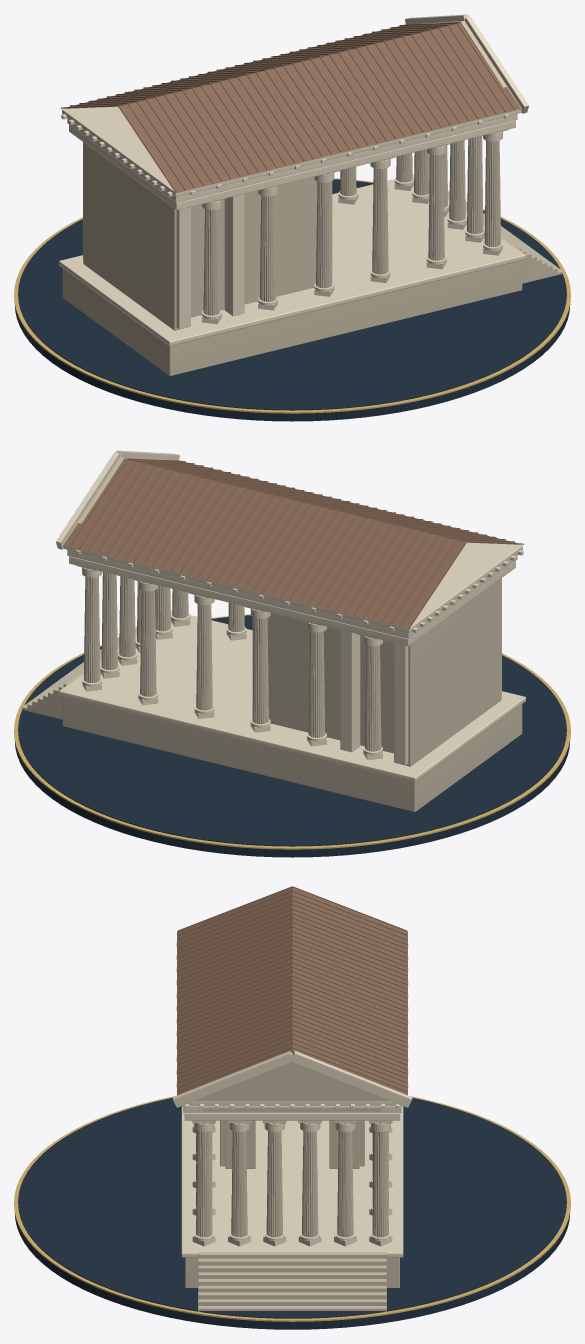
The model's file is temple-miniature-source.glb.
3 renders of one model, top to bottom at view 1: azimuth 30°, elevation 25°; view 2: azimuth 150°, elevation 25°; view 3: azimuth 270°, elevation 25°, orthographic.
Visible parts, largest first — view 1: Decorative navy top, Clay roof plane, Podium top moulding, Podium main 2.75m, Cella restored rear wall, Cella flank, Decorative navy display plinth, Entablature and cornice.002, Clay roof plane.001, Entablature and cornice, Decorative gold rim, Entablature and cornice.001 (+3 smaller); view 2: Decorative navy top, Clay roof plane.001, Podium top moulding, Podium main 2.75m, Cella restored rear wall, Cella flank.001, Decorative navy display plinth, Entablature and cornice.002, Clay roof plane, Entablature and cornice, Decorative gold rim, Entablature and cornice.001 (+3 smaller); view 3: Decorative navy top, Clay roof plane, Clay roof plane.001, Podium top moulding, Decorative navy display plinth, Triangular east fronton, Decorative gold rim, Entablature and cornice, Raking pediment cornice, Raking pediment cornice.001, Restored step 02, Restored step 03 (+13 smaller).
Part boxes in pixels (box(x1,y1,x2,y2)): Decorative navy top: box(18, 179, 566, 410); Clay roof plane: box(118, 23, 520, 193); Podium top moulding: box(59, 174, 525, 345); Podium main 2.75m: box(62, 260, 522, 375); Cella restored rear wall: box(83, 142, 179, 330); Cella flank: box(191, 177, 317, 317); Decorative navy display plinth: box(15, 306, 569, 421); Entablature and cornice.002: box(62, 106, 521, 196); Clay roof plane.001: box(60, 23, 459, 108); Entablature and cornice: box(69, 120, 515, 210); Decorative gold rim: box(14, 178, 570, 413); Entablature and cornice.001: box(67, 114, 517, 202); Decorative navy top: box(18, 615, 566, 846); Clay roof plane.001: box(64, 459, 466, 629); Podium top moulding: box(59, 610, 525, 781); Podium main 2.75m: box(62, 696, 522, 811); Cella restored rear wall: box(405, 578, 501, 766); Cella flank.001: box(267, 613, 393, 753); Decorative navy display plinth: box(15, 742, 569, 857); Entablature and cornice.002: box(63, 542, 522, 632); Clay roof plane: box(125, 459, 524, 544); Entablature and cornice: box(69, 556, 515, 646); Decorative gold rim: box(14, 614, 570, 849); Entablature and cornice.001: box(67, 550, 517, 638); Decorative navy top: box(18, 1097, 566, 1318); Clay roof plane: box(177, 887, 292, 1095); Clay roof plane.001: box(292, 887, 407, 1095); Podium top moulding: box(181, 1106, 403, 1257); Decorative navy display plinth: box(15, 1214, 569, 1329); Triangular east fronton: box(194, 1053, 390, 1101); Decorative gold rim: box(14, 1096, 570, 1321); Entablature and cornice: box(184, 1113, 400, 1120); Raking pediment cornice: box(172, 1051, 293, 1107); Raking pediment cornice.001: box(292, 1051, 412, 1107); Restored step 02: box(198, 1292, 386, 1299); Restored step 03: box(198, 1285, 386, 1292).
Size of the model in its own units: 36.9 by 17.96 by 36.9.
